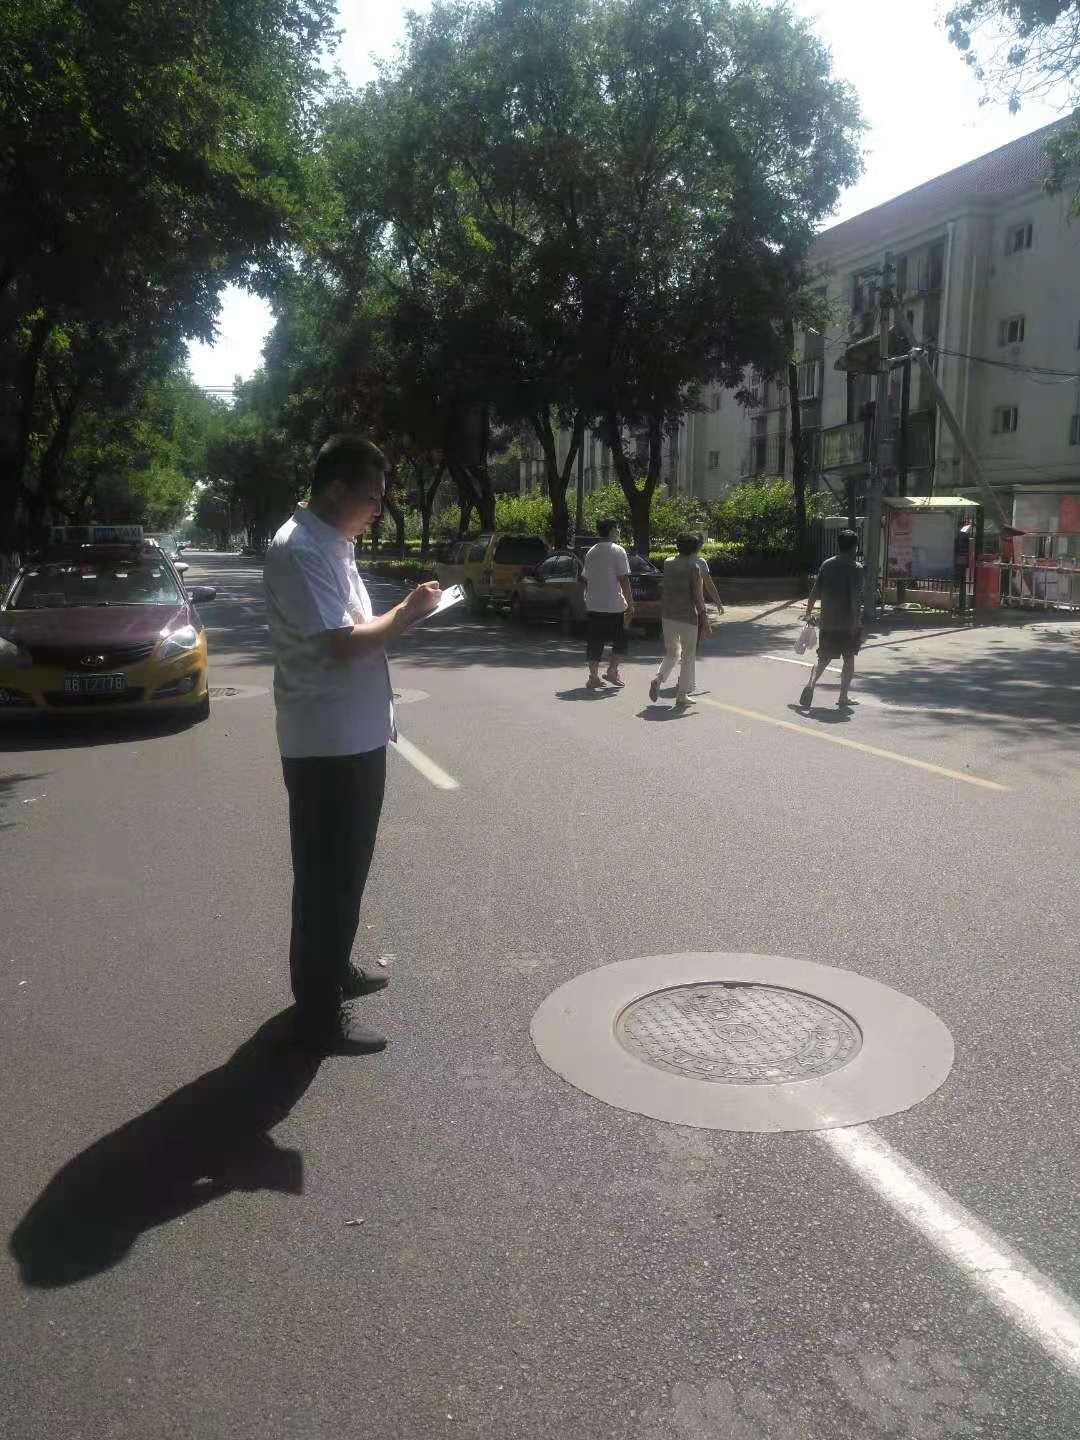wellcover: (576, 931, 895, 1158)
